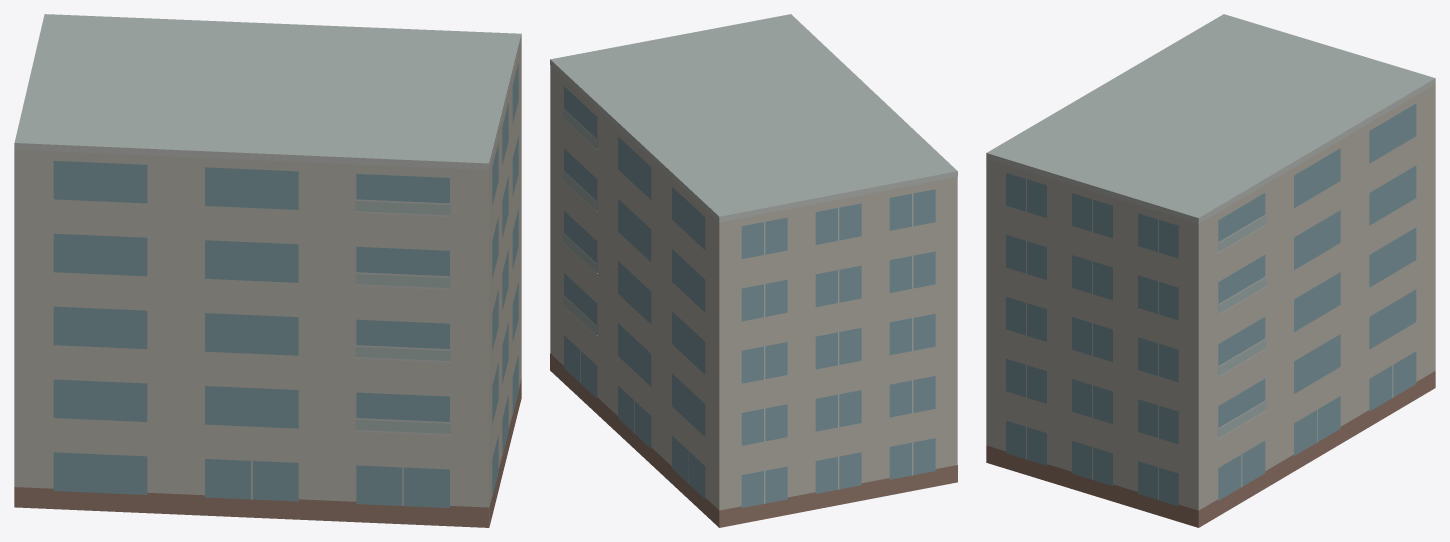
File: survey-upis-32555758.glb
3 renders of one model, left to right at view 1: azimuth 30°, elevation 25°; view 2: azimuth 150°, elevation 25°; view 3: azimuth 270°, elevation 25°, orthographic. The views are drawn at different scales.
Parts seen in each view (by area): view 1: survey-upis-32555758.tmp; view 2: survey-upis-32555758.tmp; view 3: survey-upis-32555758.tmp.
Part boxes in pixels (left/top/right/bottom): survey-upis-32555758.tmp: left=14, top=14, right=521, bottom=527; survey-upis-32555758.tmp: left=550, top=14, right=957, bottom=527; survey-upis-32555758.tmp: left=986, top=14, right=1435, bottom=527.
Bounding box in the file's own units: 18.95 × 13.4 × 17.62.
